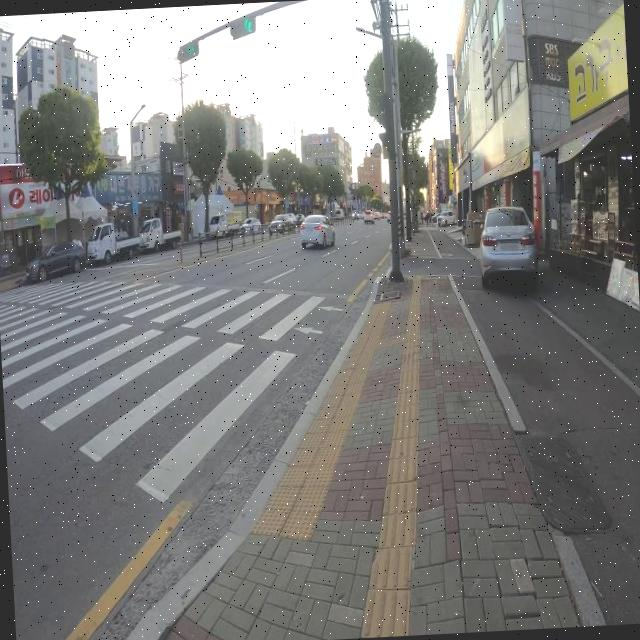crosswalk: (0, 281, 351, 511)
